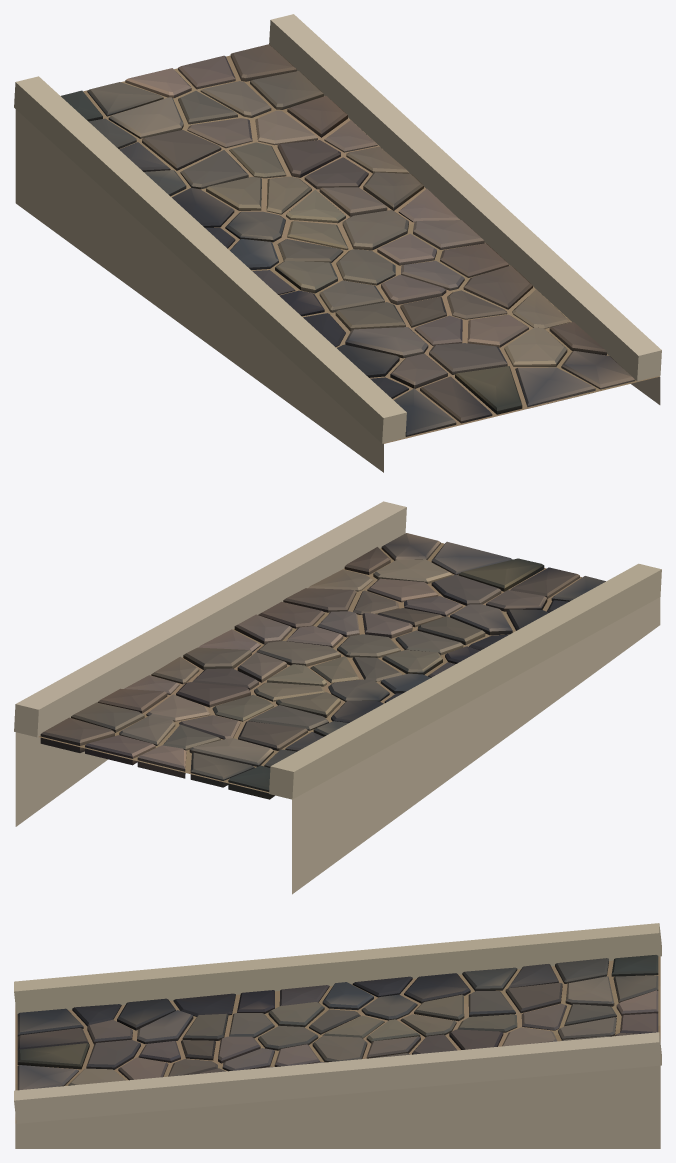
Rendered from rampa.glb.
The picture shows the model from 3 angles, top to bottom: view 1: azimuth 30°, elevation 25°; view 2: azimuth 150°, elevation 25°; view 3: azimuth 270°, elevation 25°; orthographic projection. The views are drawn at different scales.
Visible parts, largest first — view 1: rampa_piezas, rampa_fijo; view 2: rampa_fijo, rampa_piezas; view 3: rampa_fijo, rampa_piezas.
Boxes of the visible parts, bbox=[...] form: rampa_piezas: bbox=[61, 44, 635, 436]; rampa_fijo: bbox=[14, 14, 661, 472]; rampa_fijo: bbox=[14, 501, 661, 894]; rampa_piezas: bbox=[40, 533, 605, 799]; rampa_fijo: bbox=[14, 923, 661, 1148]; rampa_piezas: bbox=[17, 955, 658, 1090].
Size of the model in its own units: 2.62 by 1.1 by 6.02.
